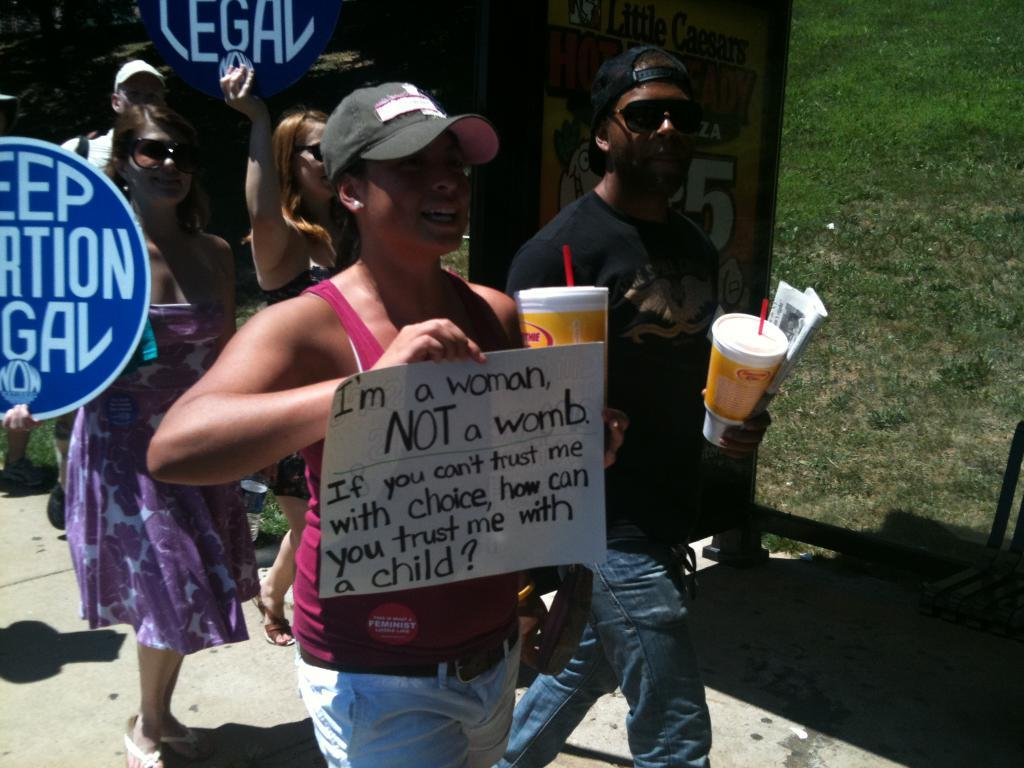Hat: (324, 79, 500, 182), (586, 39, 700, 178), (113, 56, 164, 92)
